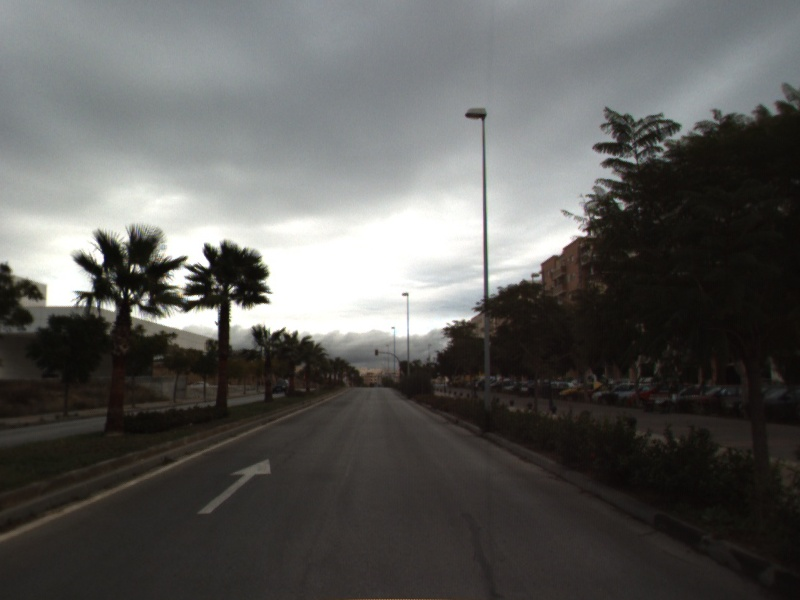STRAIGHT: (195, 456, 273, 516)
